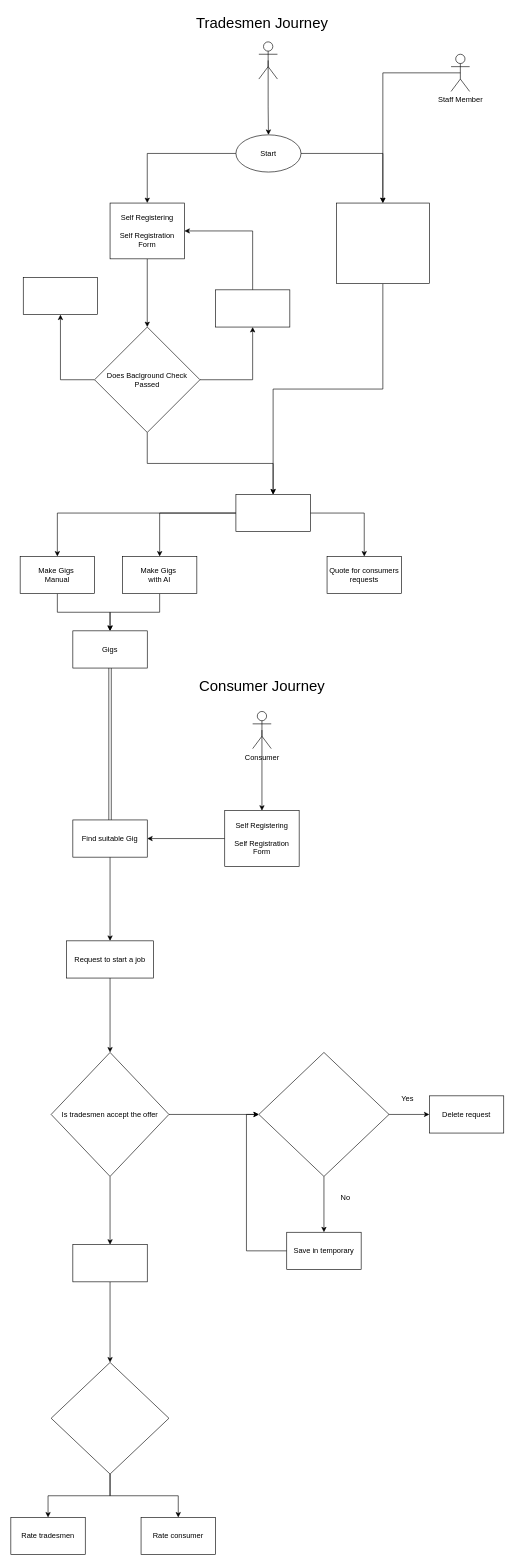
This 515x1566 diagram has some shape labels left out. The shapes that lost their labels are listed below. From the top down, each one's centre as x and y in pixels, then its label:
At (x=267, y=60): "Tradesmen".
At (x=382, y=243): "Registering in Service Senter Tradesmen Registration Form".
At (x=60, y=296): "Profile Delete After 3 months".
At (x=252, y=308): "Require More Information".
At (x=272, y=513): "Verfied tradesmen account created".
At (x=323, y=1114): "Is reqest more than 3 days old".
At (x=109, y=1263): "Start the job".
At (x=110, y=1418): "If job is done".
